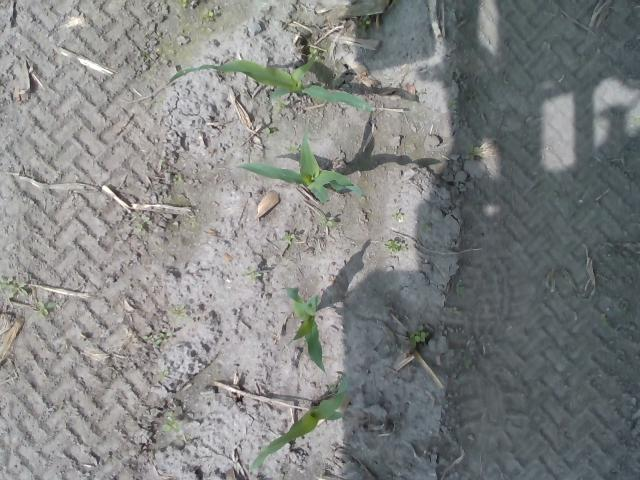Maize: (168, 56, 370, 110), (250, 374, 352, 471), (232, 129, 362, 204), (286, 286, 327, 372)
Weeds: (142, 328, 176, 349), (0, 276, 28, 296), (409, 326, 430, 346), (161, 416, 182, 433), (38, 302, 56, 316), (383, 239, 402, 252), (136, 216, 151, 232), (320, 214, 336, 227), (246, 269, 264, 280), (200, 8, 214, 22), (466, 144, 476, 160), (448, 306, 464, 316), (358, 17, 370, 30), (307, 47, 318, 60), (284, 233, 297, 243), (446, 100, 457, 110), (176, 0, 188, 9), (278, 100, 288, 110), (422, 223, 433, 232), (392, 210, 401, 220), (633, 115, 640, 125), (264, 127, 272, 135)
